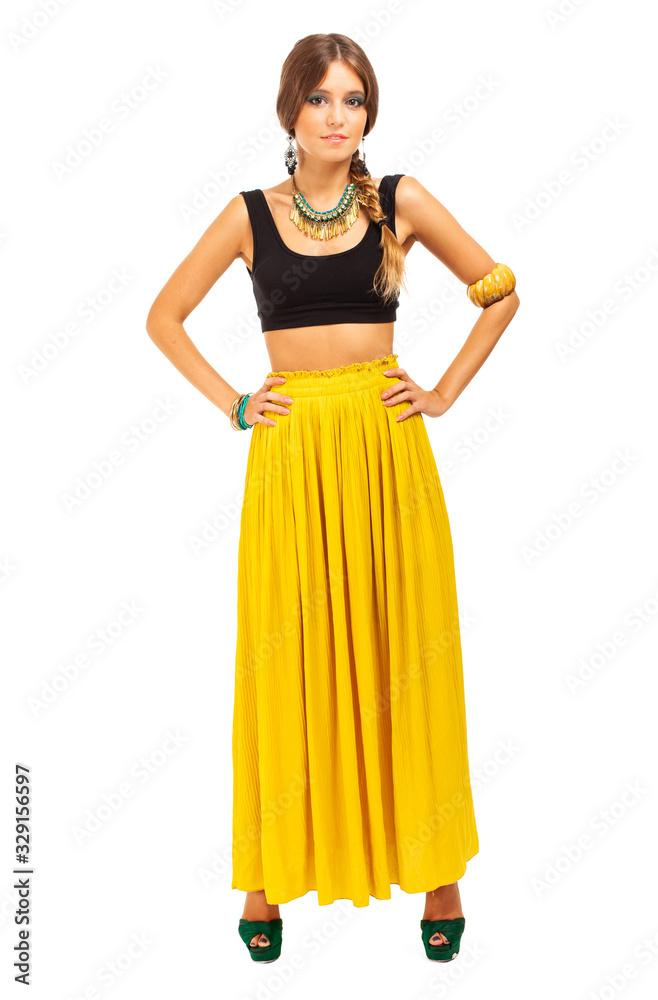Human: (154, 38, 550, 981)
